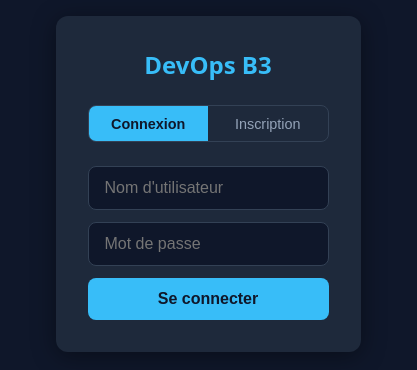
Test: AuthForm – connexion › affiche la GreetPage après connexion réussie
Type "alice" into the field with placeholder "Nom d'utilisateur" at (208, 188), box [88, 166, 328, 210]
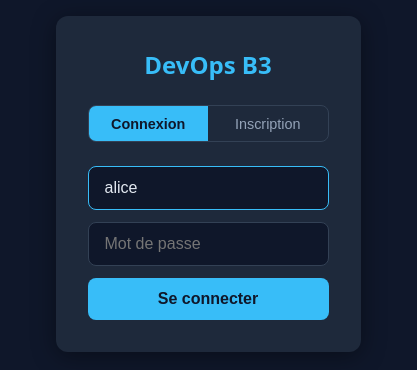
Type "secret" into the password field with placeholder "Mot de passe" at (208, 244), box [88, 222, 328, 266]
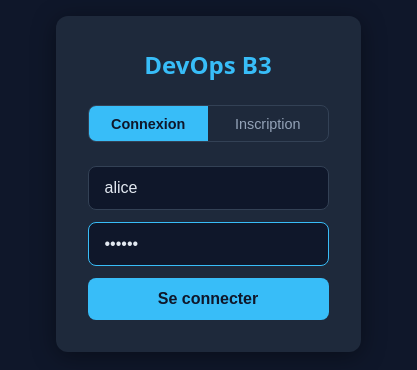
Click the button "Se connecter" at (208, 299), box [88, 278, 328, 320]
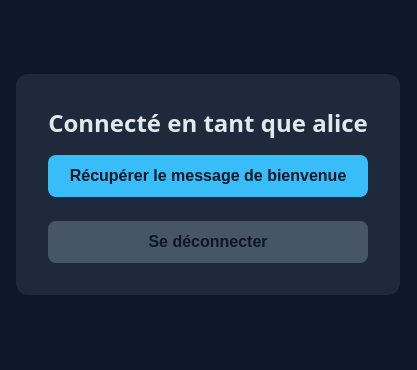
Expected: the heading "Connecté en tant que alice" is shown, [48, 106, 368, 138]
Expected: the text "alice" is shown, [312, 106, 368, 138]
